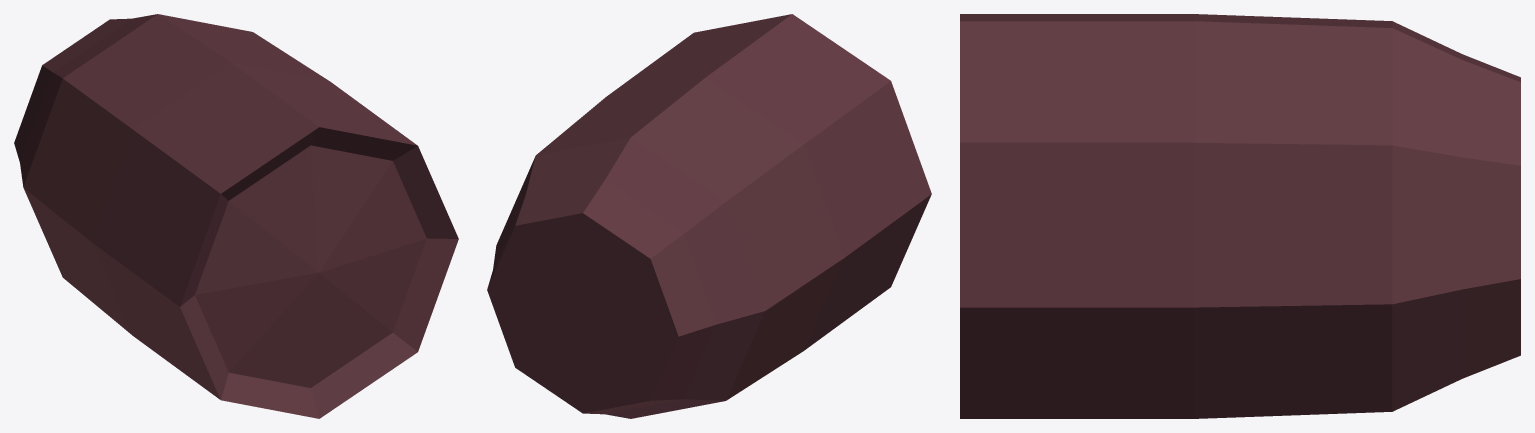
The model's file is camera-dslr-objective-small.fbx.
The picture shows the model from 3 angles, left to right: view 1: azimuth 30°, elevation 25°; view 2: azimuth 150°, elevation 25°; view 3: azimuth 270°, elevation 25°; orthographic projection. The views are drawn at different scales.
Visible parts, largest first — view 1: camera-dslr-objective-small; view 2: camera-dslr-objective-small; view 3: camera-dslr-objective-small.
Boxes of the visible parts, x1=… form: camera-dslr-objective-small: x1=14, y1=14, x2=458, y2=418; camera-dslr-objective-small: x1=487, y1=14, x2=931, y2=418; camera-dslr-objective-small: x1=960, y1=14, x2=1520, y2=418.
Size of the model in its own units: 0.0822 by 0.0822 by 0.1069.
